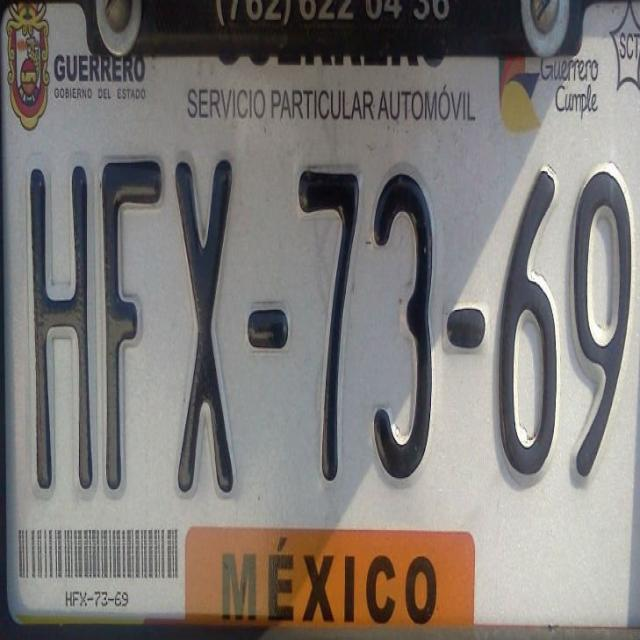placa: (10, 134, 640, 505)
